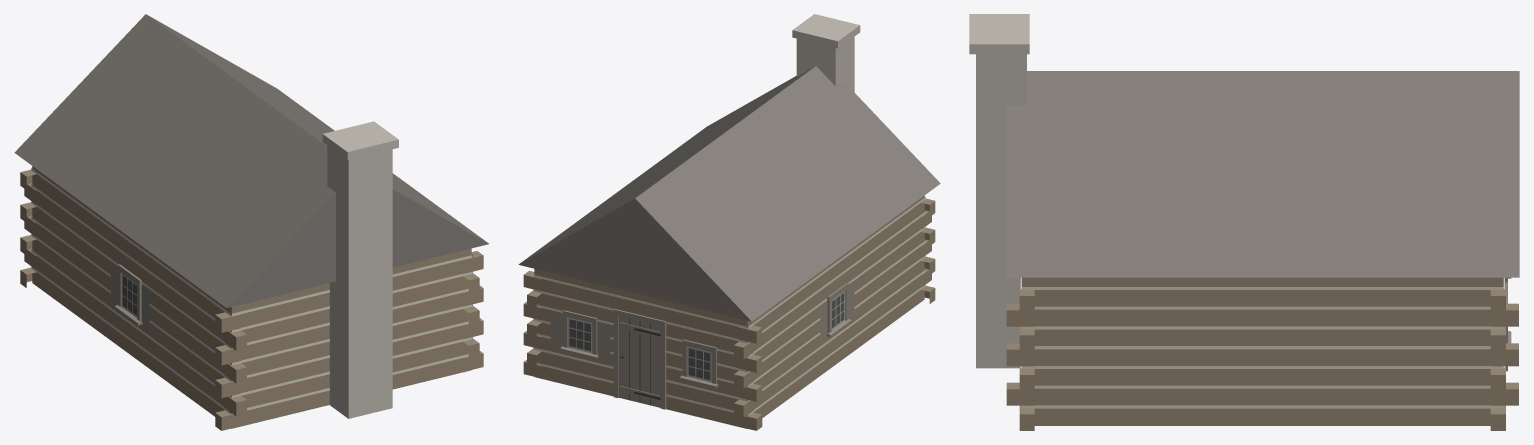
File: recon_1835_blk_randolph_wells_d1_06__inferred_1835.glb
The picture shows the model from 3 angles, left to right: view 1: azimuth 30°, elevation 25°; view 2: azimuth 150°, elevation 25°; view 3: azimuth 270°, elevation 25°; orthographic projection. The views are drawn at different scales.
Parts seen in each view (by area): view 1: recon_1835_blk_randolph_wells_d1_06__inferred_1835; view 2: recon_1835_blk_randolph_wells_d1_06__inferred_1835; view 3: recon_1835_blk_randolph_wells_d1_06__inferred_1835.
Part boxes in pixels (x1=…): recon_1835_blk_randolph_wells_d1_06__inferred_1835: x1=14, y1=14, x2=488, y2=430; recon_1835_blk_randolph_wells_d1_06__inferred_1835: x1=518, y1=14, x2=940, y2=430; recon_1835_blk_randolph_wells_d1_06__inferred_1835: x1=969, y1=14, x2=1519, y2=430.
Bounding box in the file's own units: 5.73 × 5.61 × 8.58.
